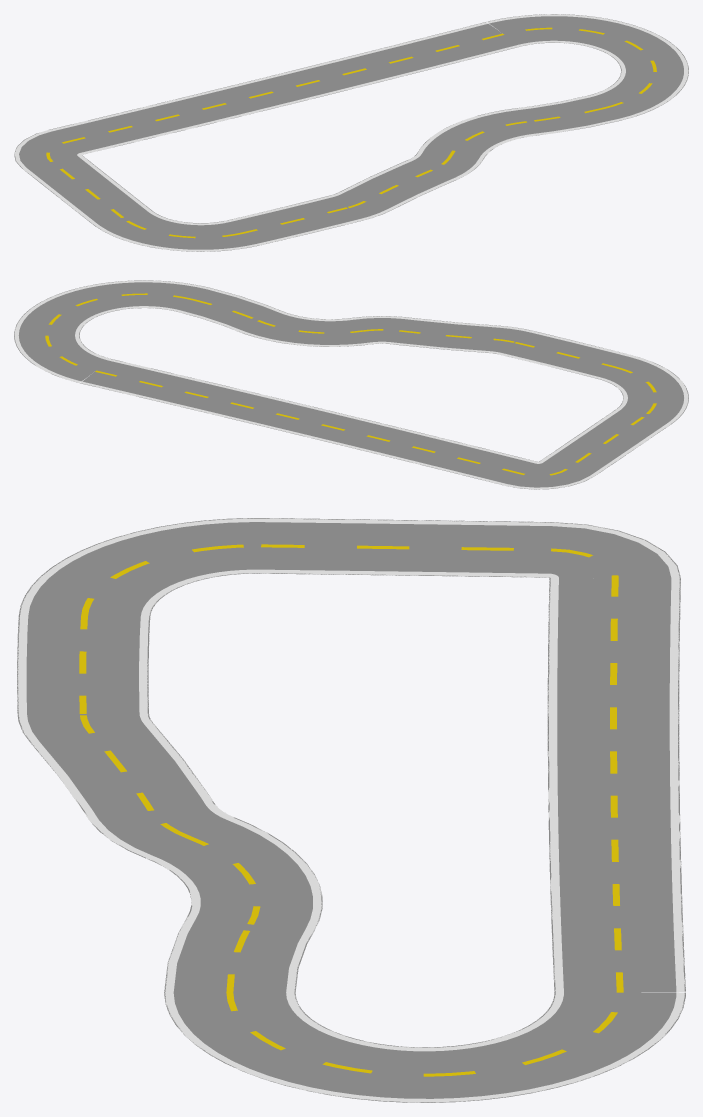
The model's file is bdsc_export.fbx.
3 renders of one model, top to bottom at view 1: azimuth 30°, elevation 25°; view 2: azimuth 150°, elevation 25°; view 3: azimuth 270°, elevation 25°, orthographic. The views are drawn at different scales.
Parts seen in each view (by area): view 1: road_arc_19, road_arc_4, road_arc_16, road_arc_11, road_arc_10, road_arc_6, road_arc_8, road_arc_5, road_arc_18, road_arc_7, road_arc_9; view 2: road_arc_19, road_arc_4, road_arc_16, road_arc_11, road_arc_10, road_arc_6, road_arc_8, road_arc_5, road_arc_18, road_arc_7, road_arc_9; view 3: road_arc_19, road_arc_4, road_arc_16, road_arc_11, road_arc_10, road_arc_6, road_arc_8, road_arc_5, road_arc_18, road_arc_7, road_arc_9.
Part boxes in pixels (bbox=[...]): road_arc_19: bbox=[49, 22, 520, 154]; road_arc_4: bbox=[487, 14, 688, 120]; road_arc_16: bbox=[22, 155, 152, 224]; road_arc_11: bbox=[93, 211, 259, 251]; road_arc_10: bbox=[227, 195, 363, 245]; road_arc_6: bbox=[417, 108, 535, 158]; road_arc_8: bbox=[339, 160, 455, 210]; road_arc_5: bbox=[518, 95, 621, 135]; road_arc_18: bbox=[14, 130, 81, 168]; road_arc_7: bbox=[408, 152, 483, 179]; road_arc_9: bbox=[330, 192, 390, 220]; road_arc_19: bbox=[80, 359, 537, 485]; road_arc_4: bbox=[14, 280, 209, 382]; road_arc_16: bbox=[539, 410, 670, 476]; road_arc_11: bbox=[598, 355, 688, 424]; road_arc_10: bbox=[500, 330, 631, 378]; road_arc_6: bbox=[235, 310, 371, 346]; road_arc_8: bbox=[391, 317, 498, 352]; road_arc_5: bbox=[177, 288, 280, 330]; road_arc_18: bbox=[505, 462, 593, 489]; road_arc_7: bbox=[352, 316, 407, 344]; road_arc_9: bbox=[488, 325, 530, 354]; road_arc_19: bbox=[547, 578, 685, 993]; road_arc_4: bbox=[164, 992, 685, 1102]; road_arc_16: bbox=[259, 518, 553, 577]; road_arc_11: bbox=[19, 518, 262, 617]; road_arc_10: bbox=[17, 615, 150, 714]; road_arc_6: bbox=[146, 817, 322, 931]; road_arc_8: bbox=[31, 723, 214, 817]; road_arc_5: bbox=[164, 917, 313, 992]; road_arc_18: bbox=[549, 522, 680, 578]; road_arc_7: bbox=[88, 803, 233, 858]; road_arc_9: bbox=[17, 713, 152, 742].
Bounding box in the file's own units: 7938 × 0.00486 × 3838.
